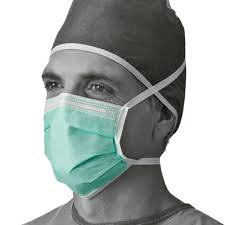mask: (35, 2, 191, 192)
